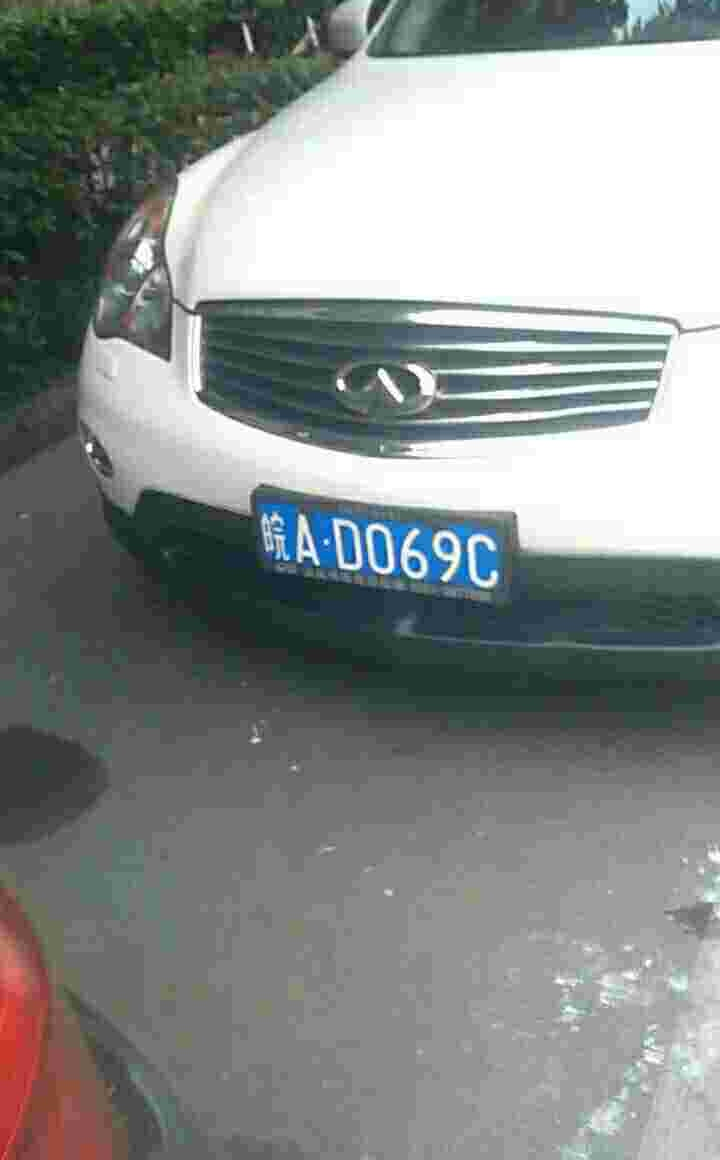license_plate: (267, 501, 514, 592)
